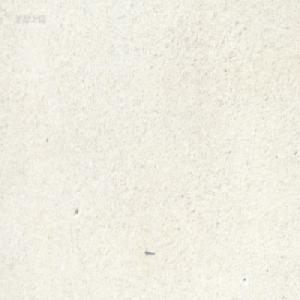Nail: (144, 247, 154, 254)
